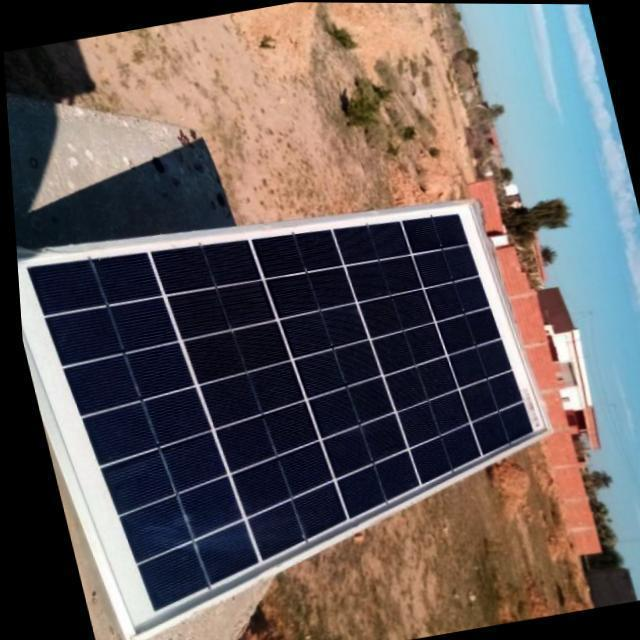Normal Solar Panel: (9, 174, 574, 640)
